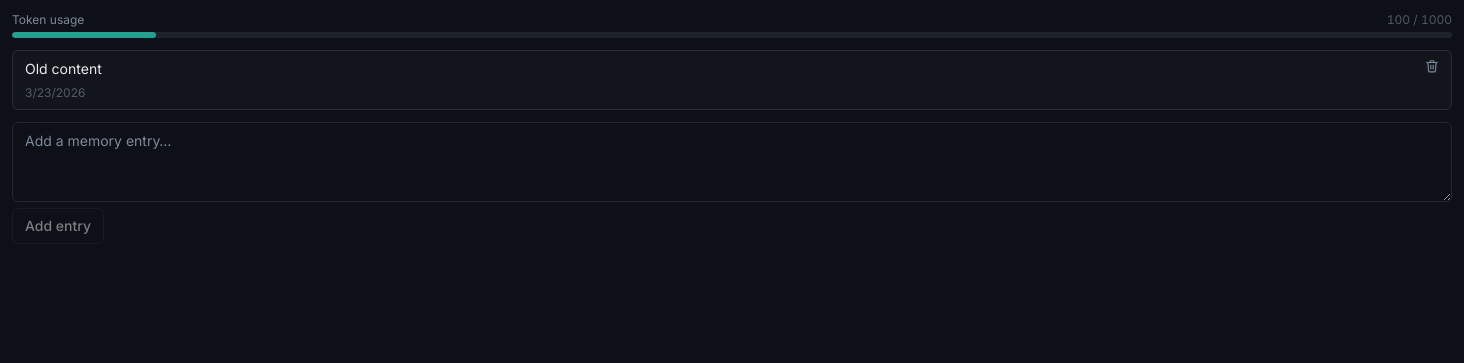
ActiveMemoryPanel › inline edit › PATCH 422 shows memory-full error message
Step 1. Click the button "Old content" → point(63, 68), box [25,59,1417,79]
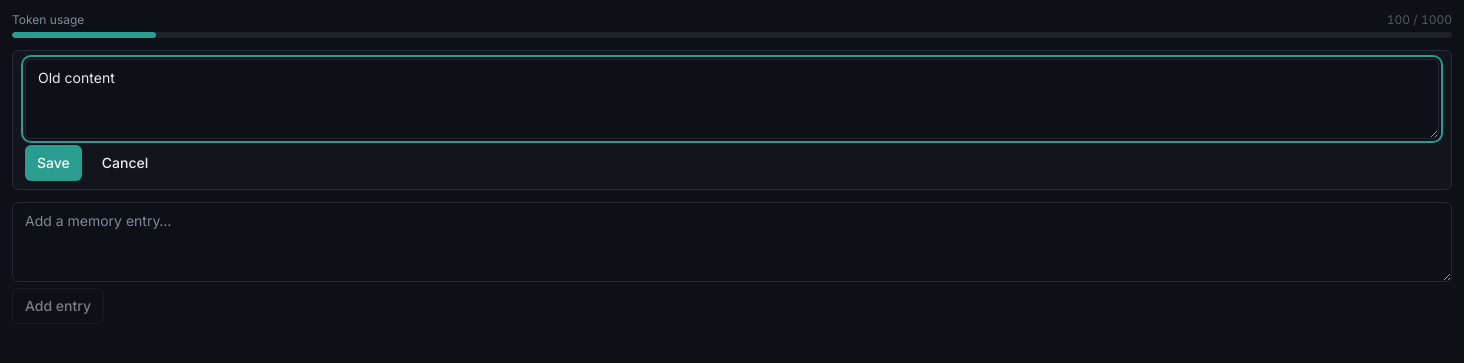
Step 2. Replace the text in the text box showing "Old content" with "Updated" → point(732, 99), box [25,59,1439,139]
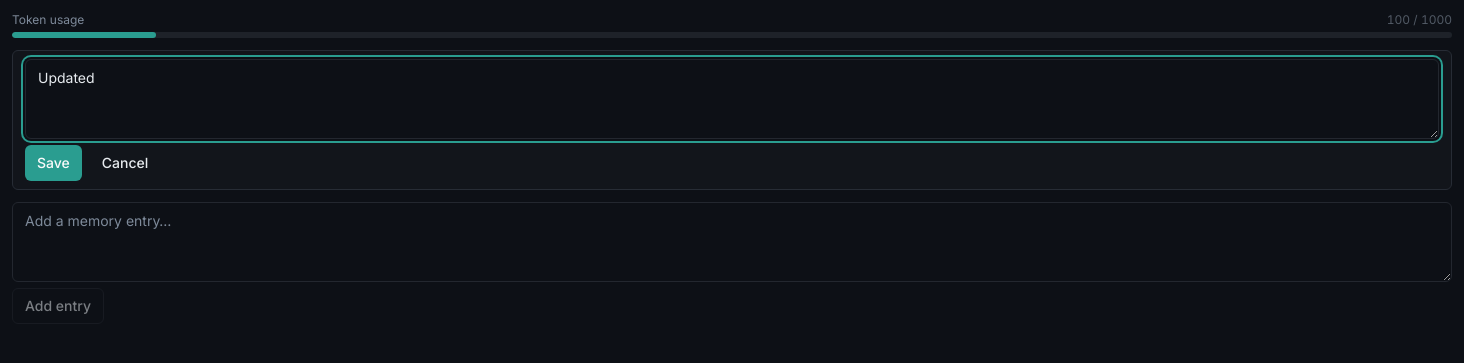
Step 3. Click the button "Save" → point(53, 163), box [25,145,82,181]
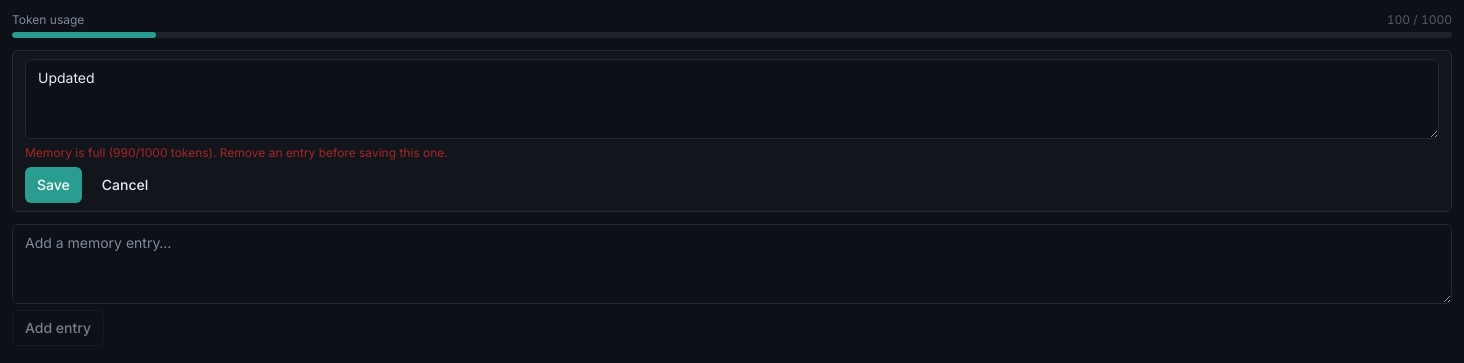
Check: the text "Memory is full" is shown, box [25,145,448,160]
